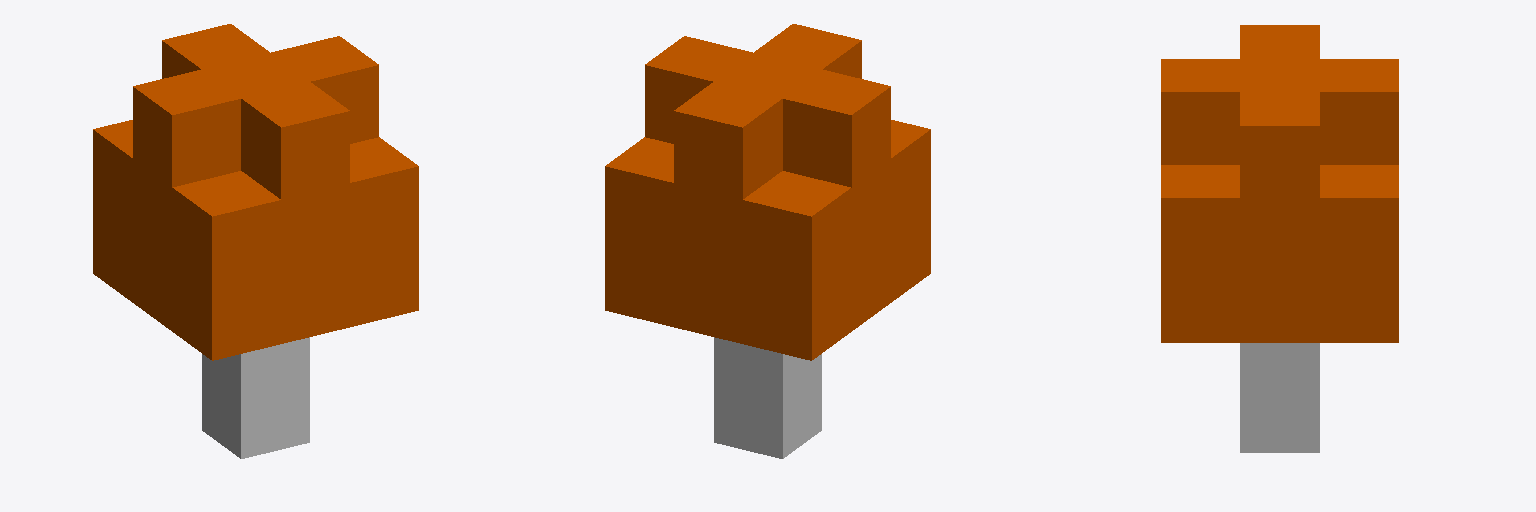
3 renders of one model, left to right at view 1: azimuth 30°, elevation 25°; view 2: azimuth 150°, elevation 25°; view 3: azimuth 270°, elevation 25°, orthographic.
Parts seen in each view (by area): view 1: object 1; view 2: object 1; view 3: object 1.
Part boxes in pixels (left/top/right/bottom): object 1: left=93, top=24, right=418, bottom=458; object 1: left=605, top=24, right=930, bottom=458; object 1: left=1161, top=25, right=1398, bottom=452.
Bounding box in the file's own units: 0.3 × 0.5 × 0.3.
1 materials, 1 textured.